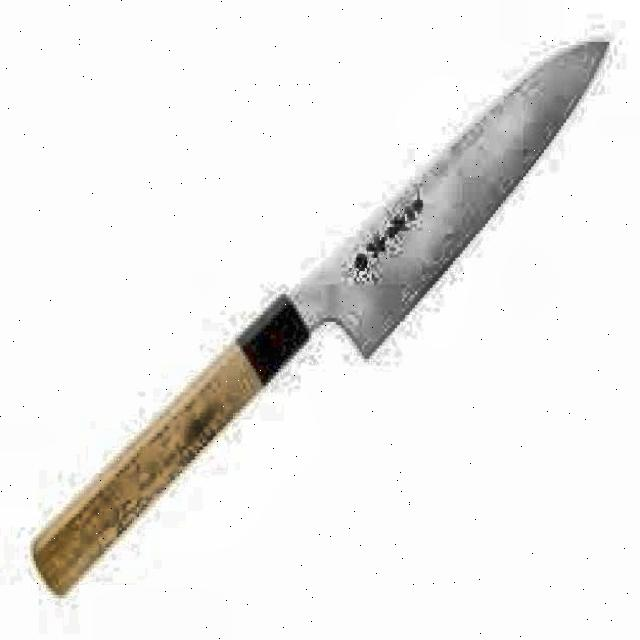knife: (31, 33, 610, 604)
